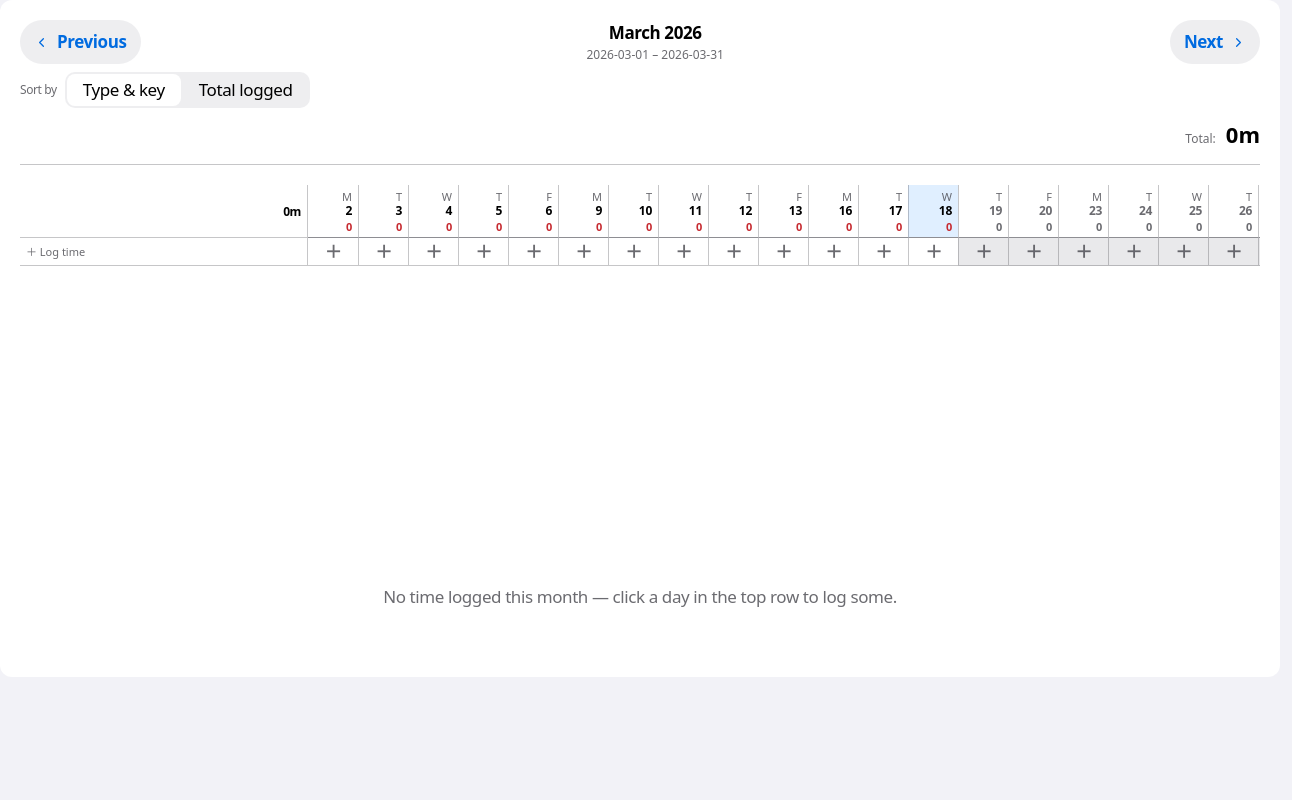
Test case: moving between months › steps back and re-reads
Click the button "Previous". click: coordinates (80, 42)
box: [20,20,140,64]
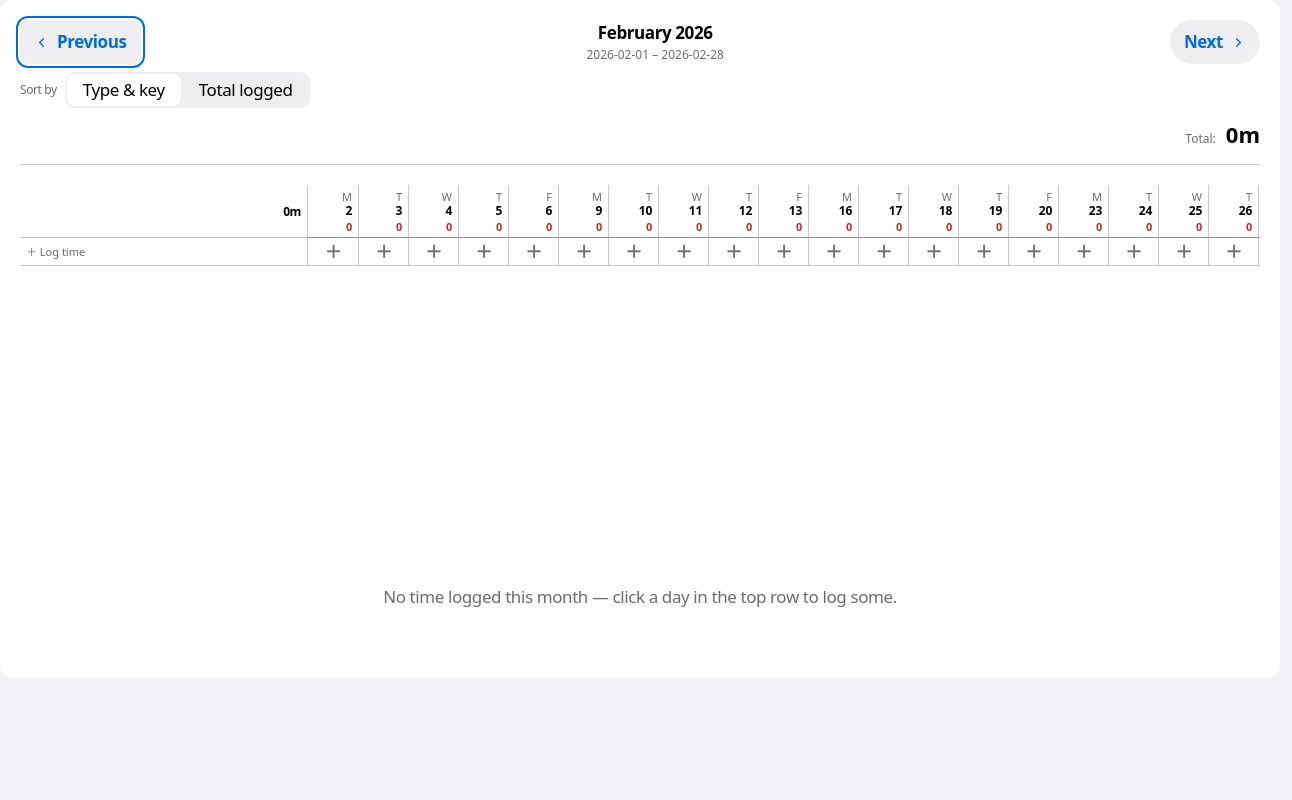
Result: the text "February 2026" is shown at [598,22,712,44]
